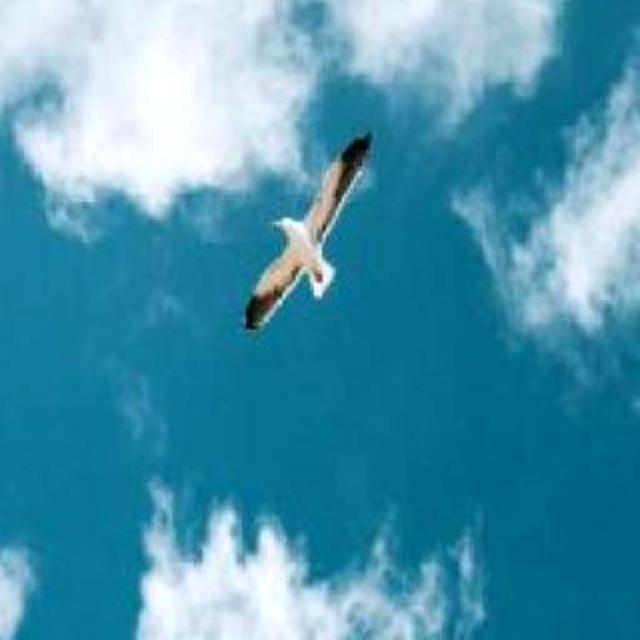airplane: (244, 130, 374, 334)
